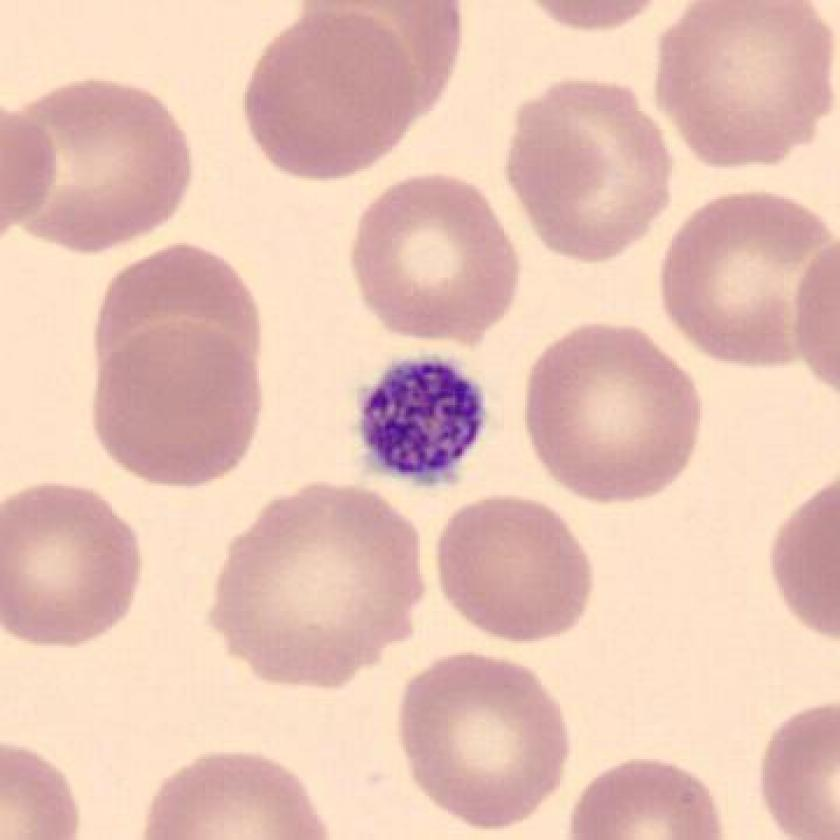platelets: (349, 348, 493, 496)
